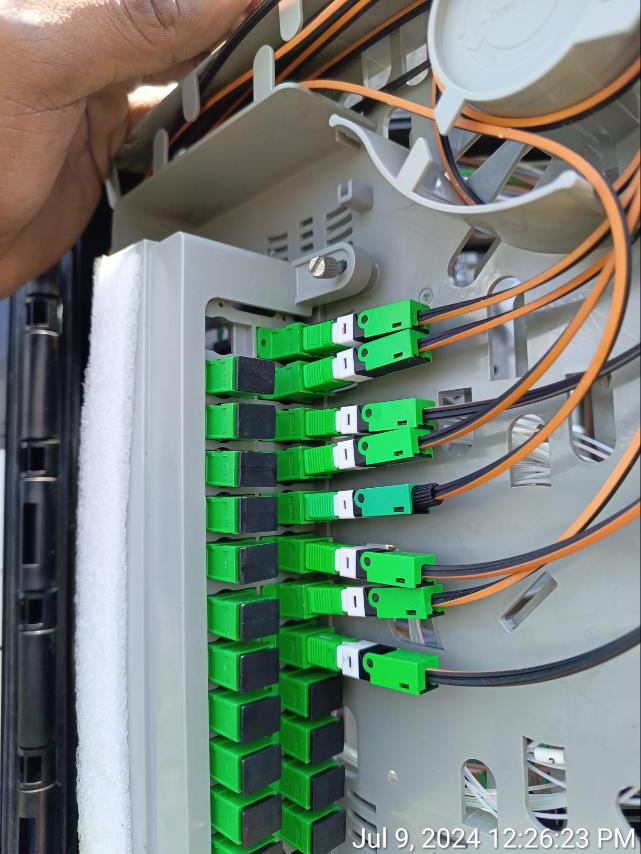no port: (204, 319, 254, 357)
occupied: (301, 325, 430, 400), (306, 632, 442, 701), (304, 425, 434, 484), (303, 298, 433, 355), (304, 542, 442, 588), (306, 580, 453, 620), (306, 480, 439, 524), (309, 396, 437, 439)
vacant: (239, 796, 283, 849), (242, 742, 283, 795), (241, 695, 280, 742), (309, 717, 346, 766), (241, 646, 279, 693), (310, 674, 345, 721), (242, 541, 278, 586), (311, 764, 344, 813), (312, 810, 346, 854), (241, 600, 280, 638), (238, 356, 274, 396), (240, 453, 279, 486), (239, 405, 278, 437), (241, 498, 278, 530), (245, 839, 285, 854)
